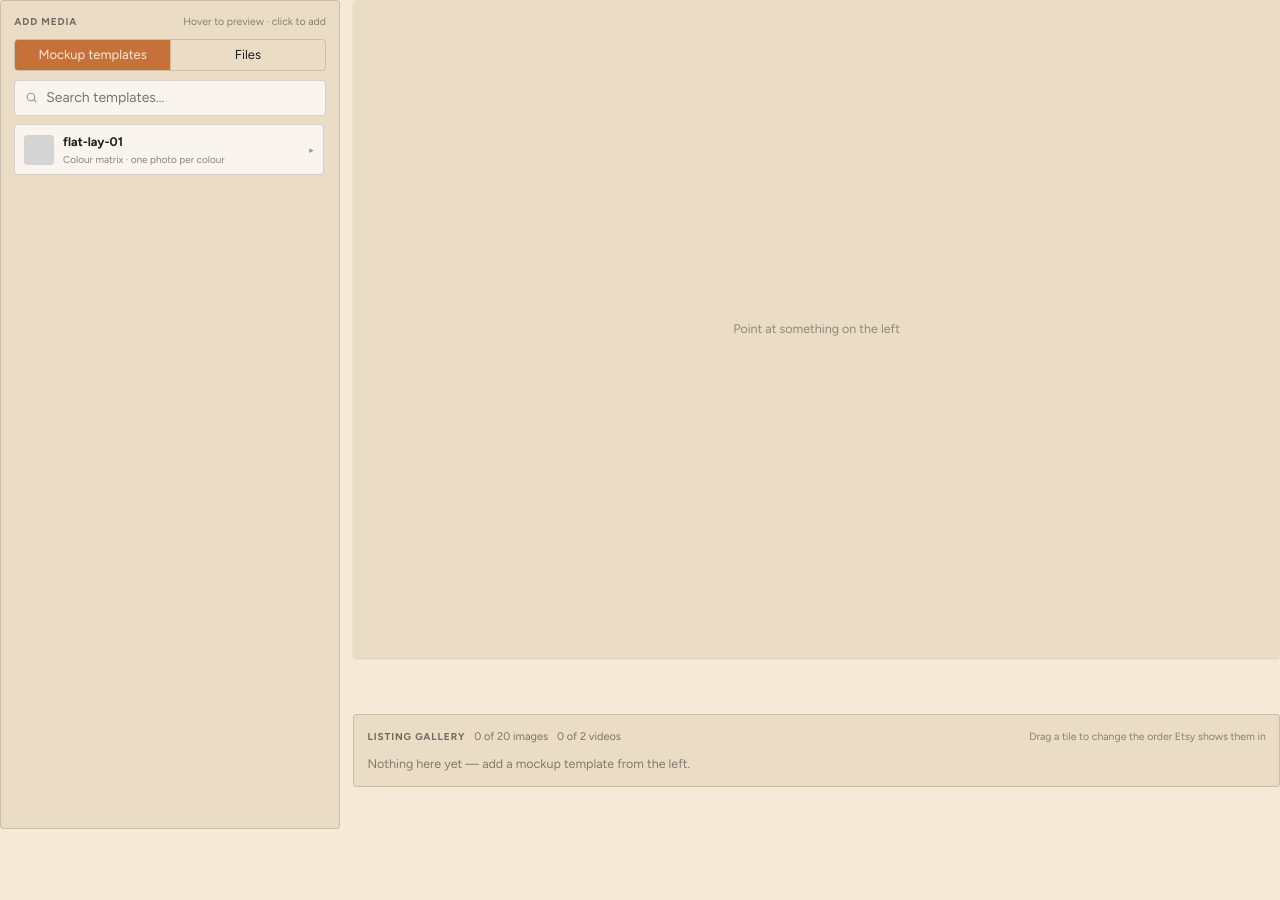
ImagesTab's shared images (common-media/) › browses templates until you ask for files
Expected: the text "flat-lay-01" is shown, 63,134 -> 123,149
Expected: the text "size-guide.png" is not shown
Click the button "Files". click: click(247, 55)
box: 170,40 -> 325,70
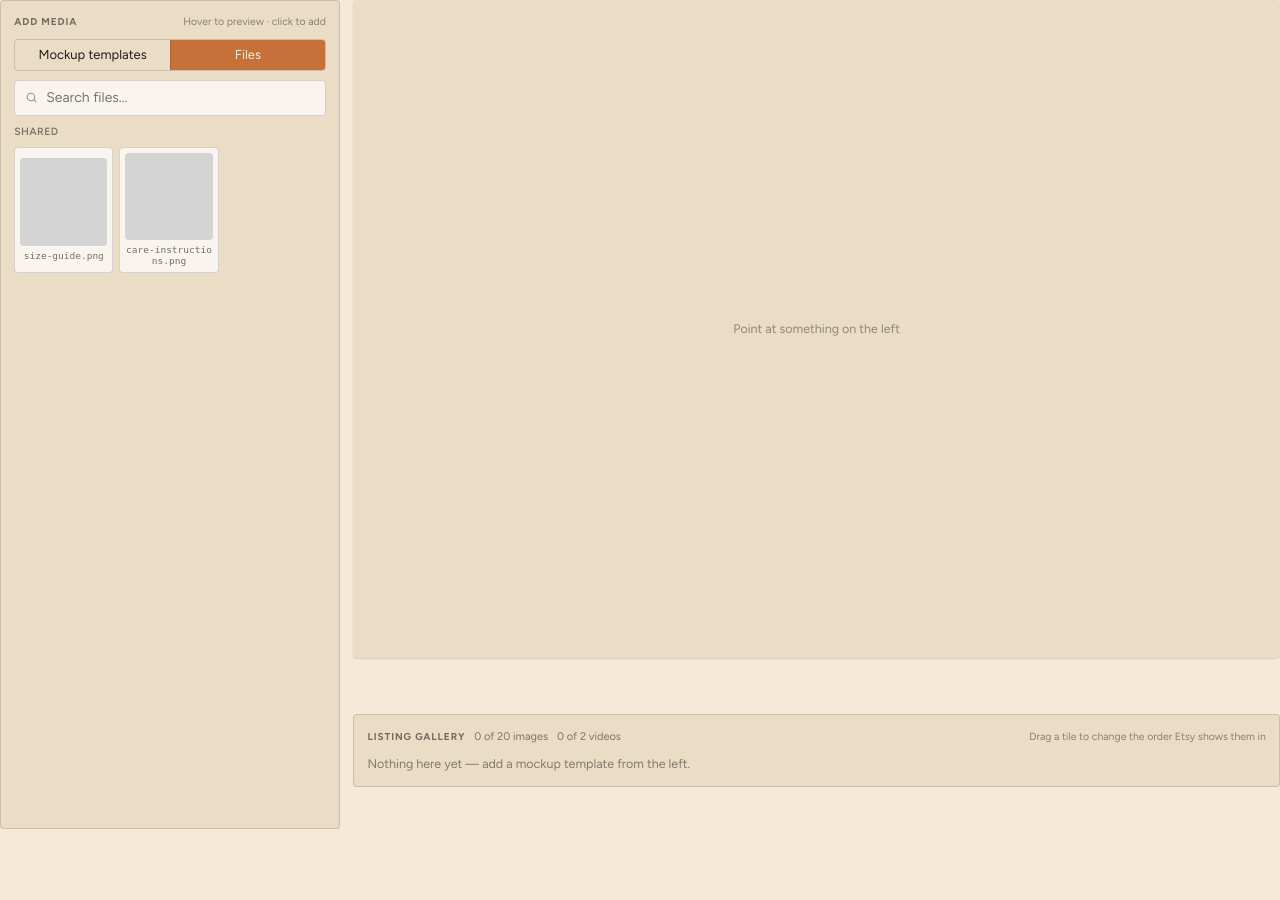
Now the text "size-guide.png" is shown, box 24,250 -> 104,261
Now the text "flat-lay-01" is gone
